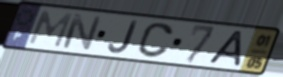7: (187, 23, 218, 66)
A: (206, 29, 246, 69)
C: (135, 22, 176, 60)
J: (107, 19, 139, 55)
M: (25, 9, 75, 50)
N: (60, 12, 104, 52)
